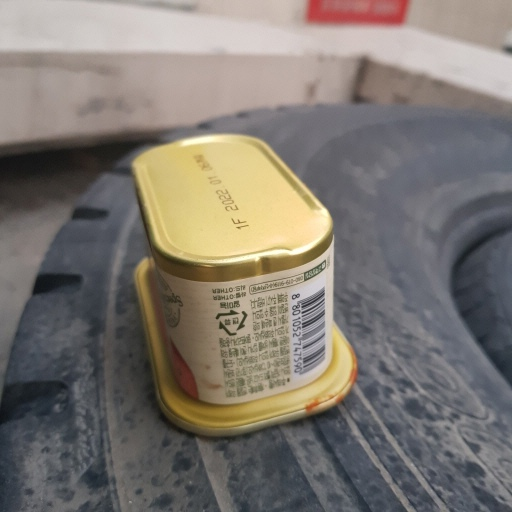Metal_2: (126, 134, 360, 438)
